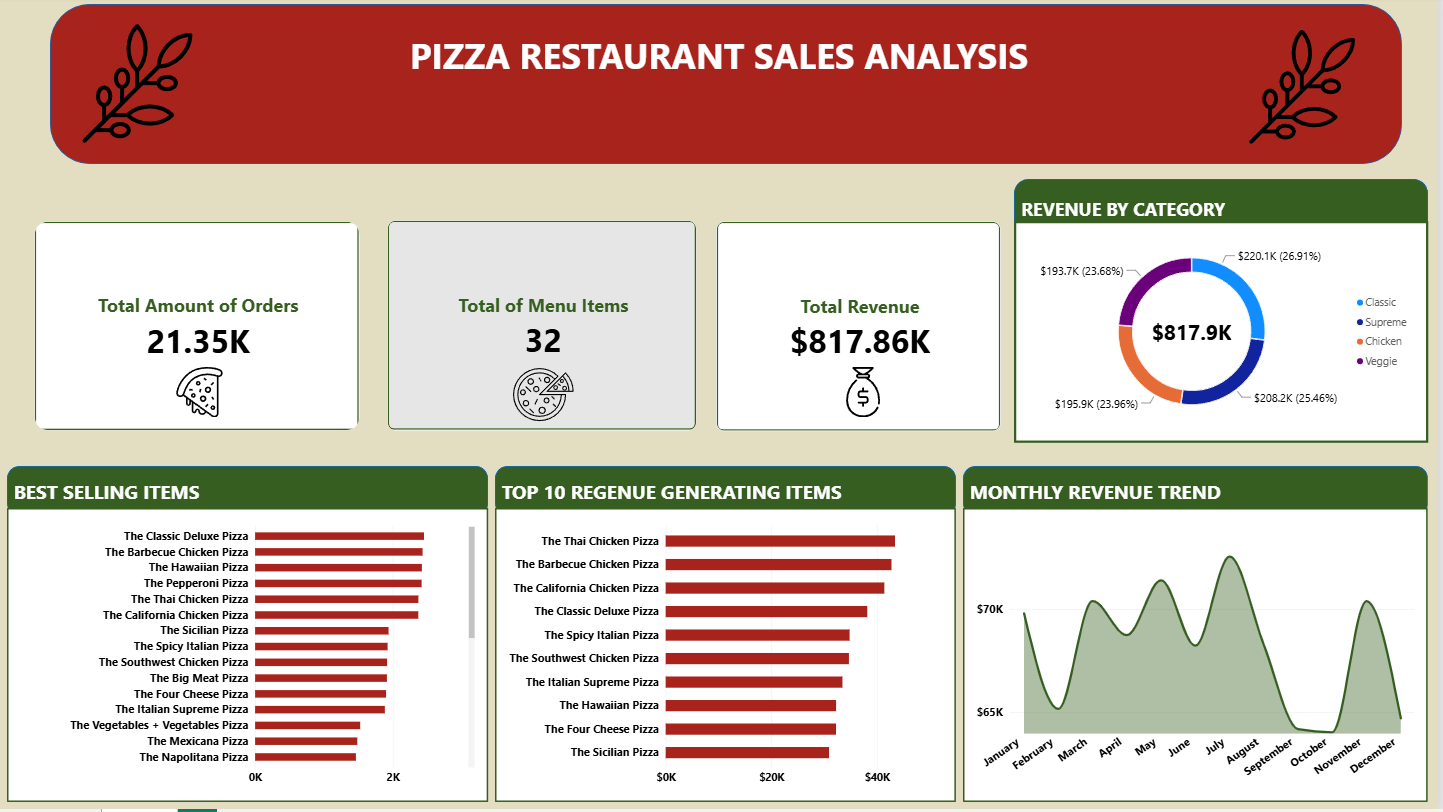

The dashboard page shown, as its layout file describes it:
{"tool":"powerbi","page":{"name":"Page 1","canvas":[1920,1080],"ordinal":0},"visuals":[{"type":"cardVisual","fields":{"Data":["order_details.Total Revenue"]},"box":[960.3,297.9,379.3,280.1],"z":0},{"type":"cardVisual","fields":{"Data":["Count(pizzas.pizza_type_id)"]},"box":[522.7,296.6,412.3,280.6],"z":1000},{"type":"cardVisual","fields":{"Data":["CountNonNull(orders.order_id)"]},"box":[53.2,297.9,433.6,279.3],"z":2000},{"type":"shape","box":[666.4,623.8,613.2,66.5],"z":2500},{"type":"clusteredBarChart","title":"TOP 10 REVENUE GENERATING ITEMS","fields":{"Y":["order_details.Total Revenue"],"Category":["pizza_types.name"]},"box":[666.4,679.7,613.2,391],"z":3000},{"type":"shape","box":[1356.7,242.1,550.6,77.1],"z":3500},{"type":"donutChart","title":"REVENUE BY CATEGORY","fields":{"Category":["pizza_types.category"],"Y":["order_details.Total Revenue"]},"box":[1356.7,297.9,550.6,295.3],"z":4000},{"type":"shape","box":[1288.8,623.8,618.5,66.5],"z":5000},{"type":"lineChart","title":"MONTHLY REVENUE TREND","fields":{"Y":["order_details.Total Revenue"],"Category":["orders.date.Variation.Date Hierarchy.Month"]},"box":[1288.8,679.7,618.5,391],"z":6000},{"type":"shape","box":[74.5,9.3,1798.2,212.8],"z":7000},{"type":"textbox","title":"PIZZA RESTAURANT SALES ANALYSIS","box":[553.3,45.2,861.9,147.6],"z":8000},{"type":"image","box":[236.7,492.1,73.2,66.5],"z":9000},{"type":"shape","box":[17.3,623.8,639.8,66.5],"z":9250},{"type":"clusteredBarChart","title":"BEST SELLING ITEMS","fields":{"Y":["order_details.Total Sold"],"Category":["pizza_types.name"]},"box":[17.3,679.7,639.8,391],"z":9500},{"type":"image","box":[675.7,482.8,110.4,91.8],"z":10000},{"type":"image","box":[1103.9,492.1,103.7,66.5],"z":11000},{"type":"image","box":[1663.9,33.3,151.6,171.6],"z":12000},{"type":"image","box":[111.7,8,158.3,214.1],"z":13000}]}

Visuals, with their boxes in screenshot pixels (x1, y1, x2, y2), scaled from the page's 1920x1080 canvas onto the 1443x812 screenshot:
cardVisual - order_details.Total Revenue: (722, 224, 1007, 435)
cardVisual - Count(pizzas.pizza_type_id): (393, 223, 703, 434)
cardVisual - CountNonNull(orders.order_id): (40, 224, 366, 434)
shape: (501, 469, 962, 519)
"TOP 10 REVENUE GENERATING ITEMS" clusteredBarChart: (501, 511, 962, 805)
shape: (1020, 182, 1433, 240)
"REVENUE BY CATEGORY" donutChart: (1020, 224, 1433, 446)
shape: (969, 469, 1433, 519)
"MONTHLY REVENUE TREND" lineChart: (969, 511, 1433, 805)
shape: (56, 7, 1407, 167)
"PIZZA RESTAURANT SALES ANALYSIS" textbox: (416, 34, 1064, 145)
image: (178, 370, 233, 420)
shape: (13, 469, 494, 519)
"BEST SELLING ITEMS" clusteredBarChart: (13, 511, 494, 805)
image: (508, 363, 591, 432)
image: (830, 370, 908, 420)
image: (1251, 25, 1364, 154)
image: (84, 6, 203, 167)
